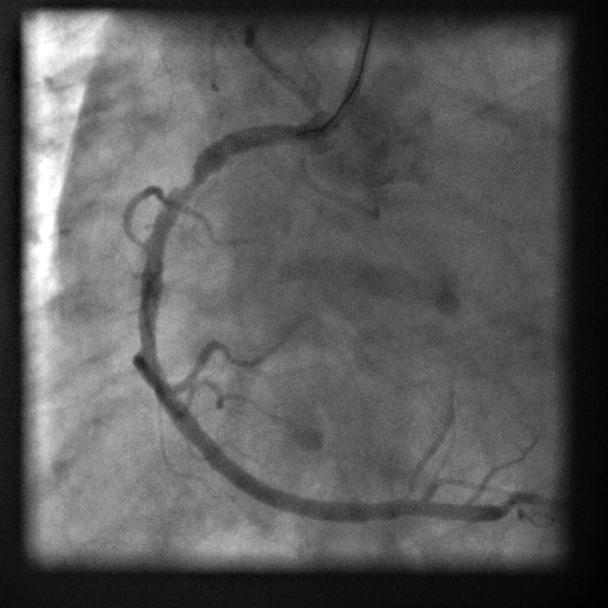Stenosis: (170, 157, 204, 210)
